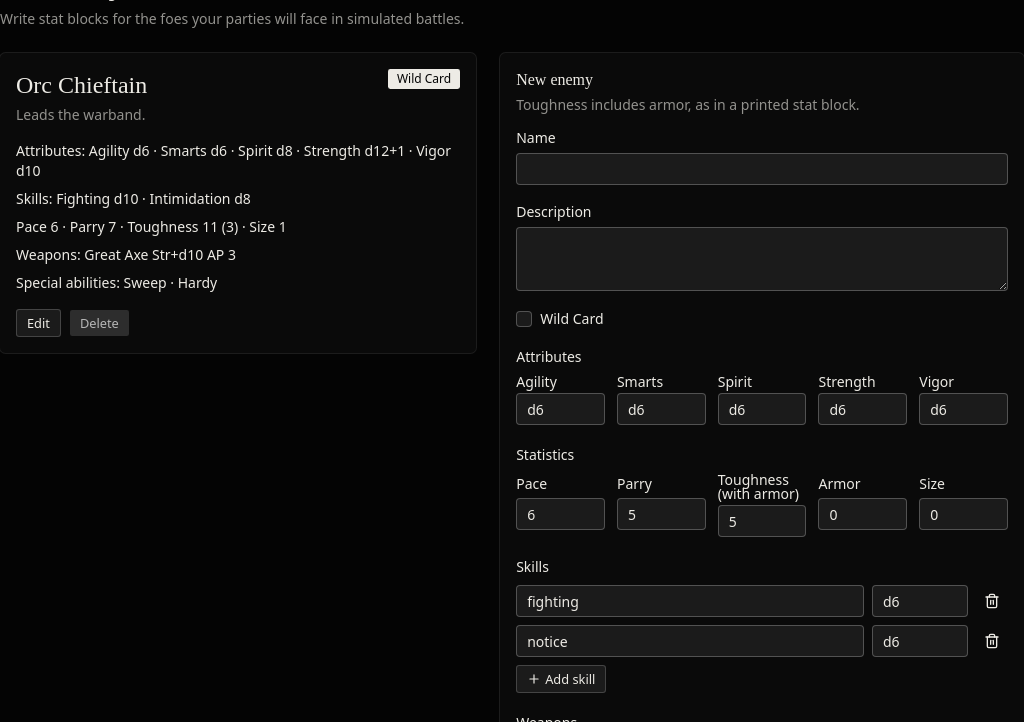
BestiaryRoute › shows server validation errors
Check: the text "Orc Chieftain" is shown, box [16, 69, 147, 101]
Type "Goblin" into the field labelled "Name" at [762, 169], box [516, 153, 1008, 185]
(page scrolled)
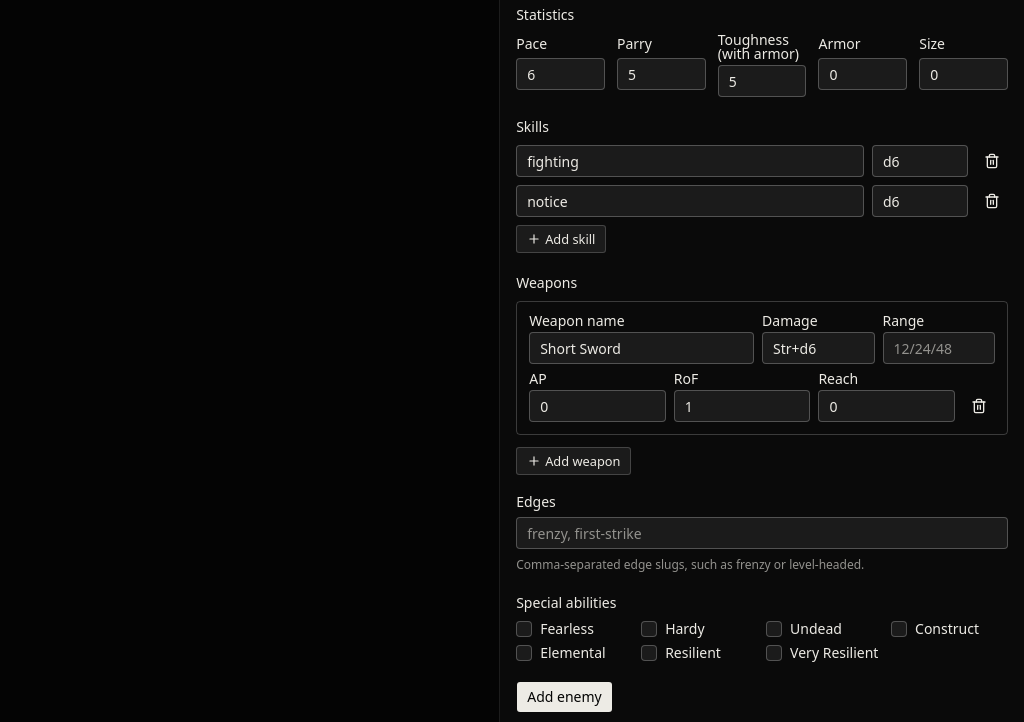
Click the button "Add enemy" at [564, 697], box [516, 681, 613, 713]
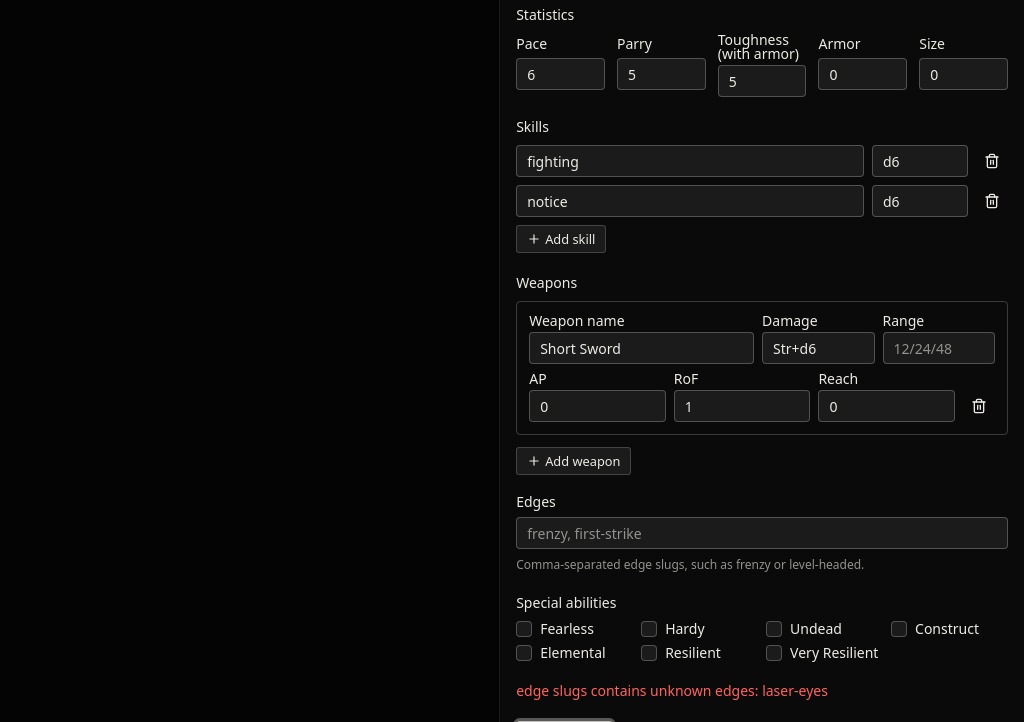
Check: the message reads "edge slugs contains unknown edges: laser-eyes", box [516, 681, 828, 700]
